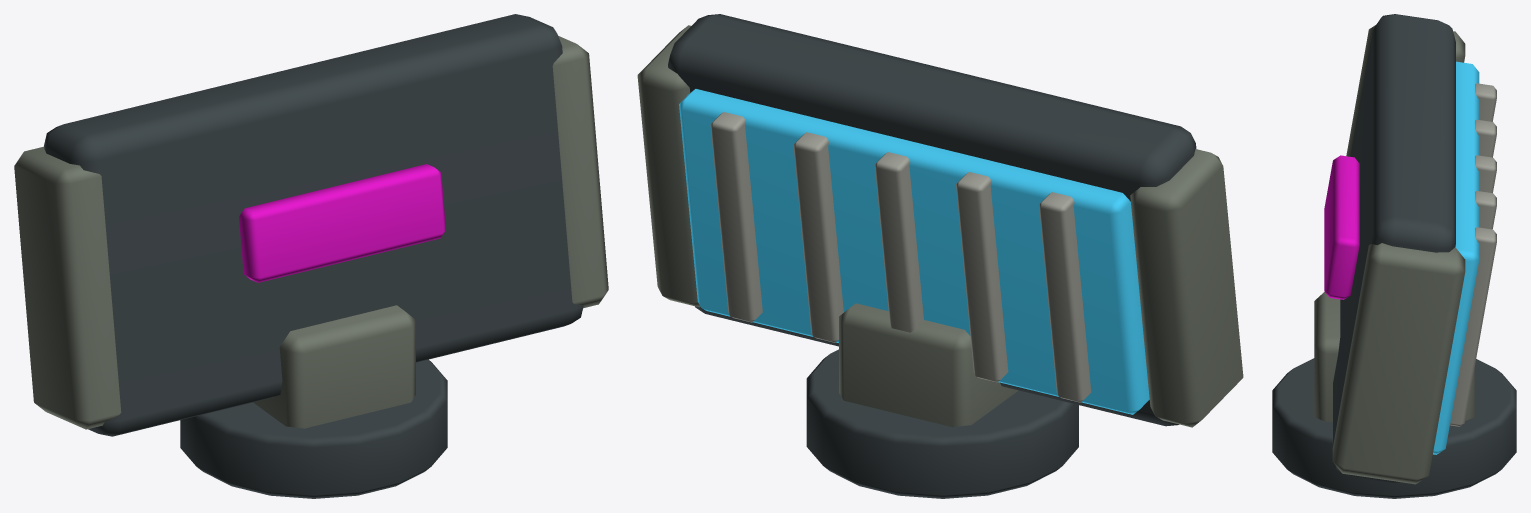
File: wheeled-artillery-radar.glb
3 renders of one model, left to right at view 1: azimuth 30°, elevation 25°; view 2: azimuth 150°, elevation 25°; view 3: azimuth 270°, elevation 25°, orthographic. The views are drawn at different scales.
Parts seen in each view (by area): view 1: TurretShell; view 2: TurretShell; view 3: TurretShell.
Boxes of the visible parts, left/top/right/bottom form: TurretShell: left=14, top=14, right=608, bottom=498; TurretShell: left=637, top=14, right=1243, bottom=498; TurretShell: left=1272, top=14, right=1516, bottom=498.
Size of the model in its own units: 0.637 by 0.4153 by 0.2757.
